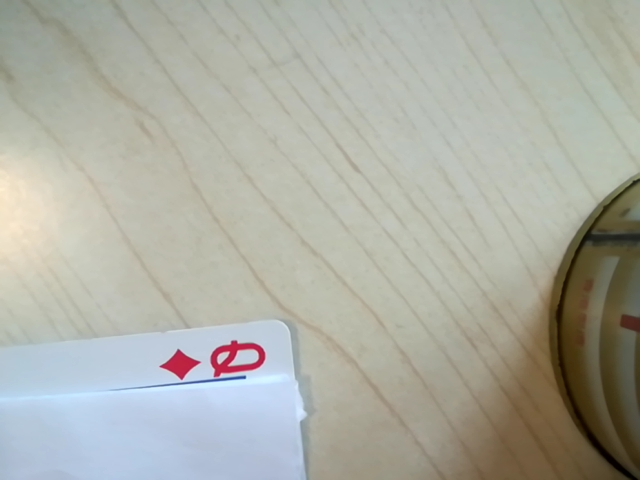fk q: (152, 336, 280, 392)
